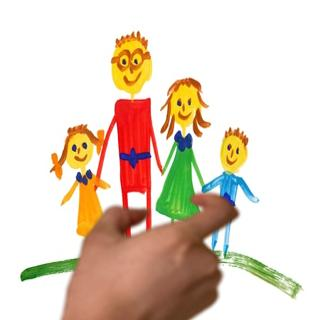HATE: (50, 188, 245, 320)
